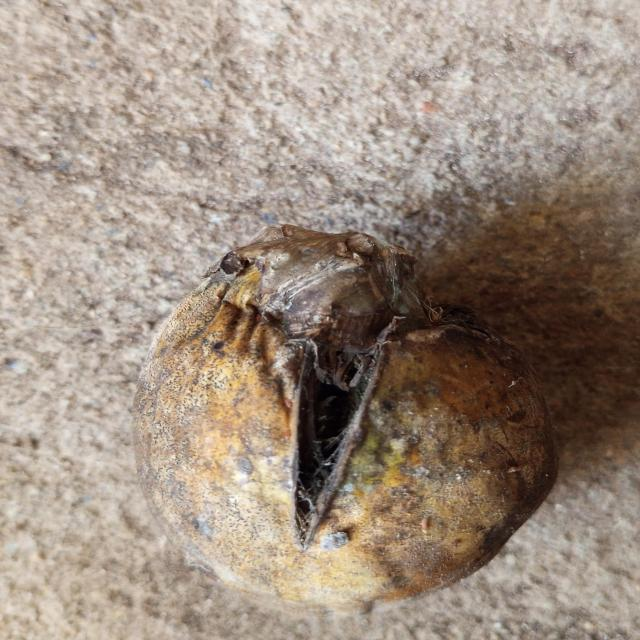damaged: (135, 225, 557, 603)
